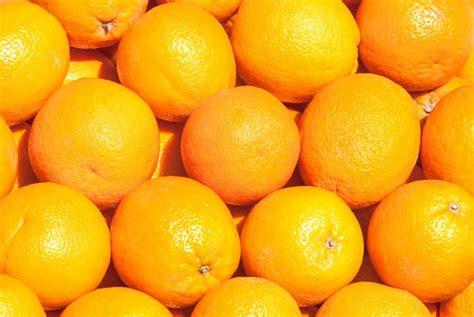orange: (110, 175, 244, 306), (298, 69, 424, 206), (28, 76, 166, 198), (107, 3, 242, 124), (218, 1, 367, 109), (181, 82, 303, 200), (241, 182, 365, 293), (369, 178, 474, 297)
